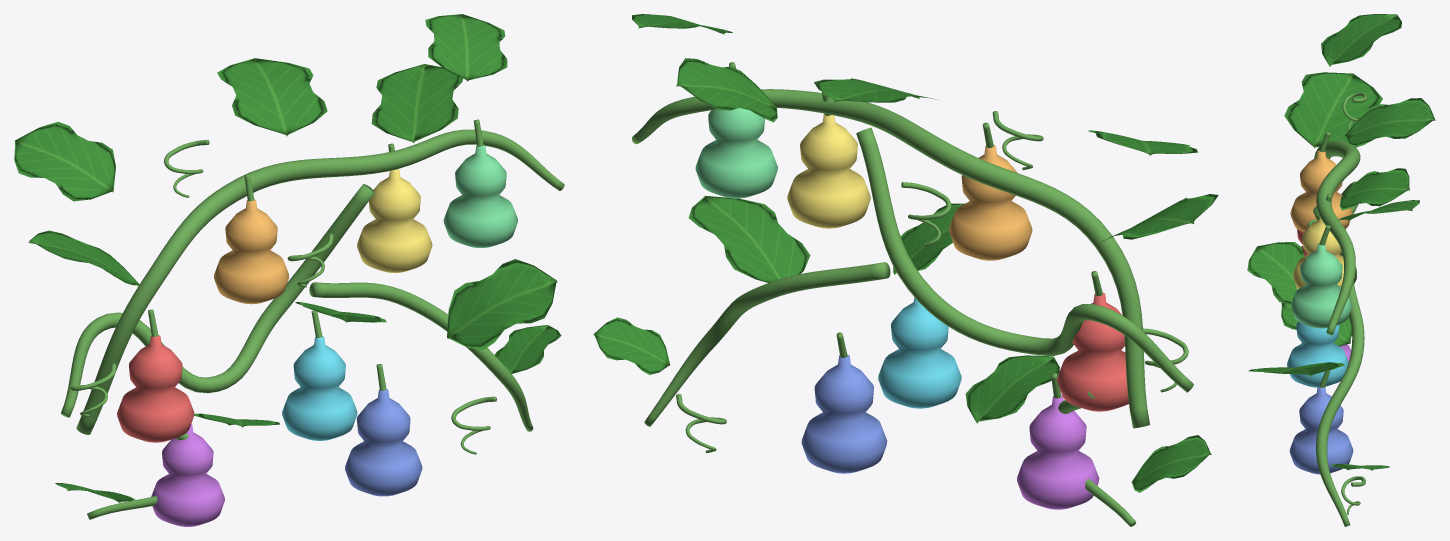
File: Prop_01_七色葫芦仙藤.glb
3 renders of one model, left to right at view 1: azimuth 30°, elevation 25°; view 2: azimuth 150°, elevation 25°; view 3: azimuth 270°, elevation 25°, orthographic. The views are drawn at different scales.
Parts seen in each view (by area): view 1: VineBranch_0, VineBranch_1, Leaf_6, Leaf_2, Gourd_6_Blue, Gourd_1_Red, Leaf_0, Gourd_5_Cyan, Gourd_2_Orange, Gourd_3_Yellow, Leaf_3, Gourd_4_Green (+7 smaller); view 2: VineBranch_0, VineBranch_1, Gourd_6_Blue, Gourd_3_Yellow, Leaf_6, Gourd_5_Cyan, Gourd_7_Purple, Gourd_4_Green, Gourd_2_Orange, Gourd_1_Red, VineBranch_2, Leaf_7 (+10 smaller); view 3: Leaf_1, Gourd_4_Green, VineBranch_0, Gourd_6_Blue, VineBranch_2, Leaf_2, Gourd_5_Cyan, Leaf_0, Leaf_5, Gourd_2_Orange, Leaf_4, Gourd_3_Yellow (+6 smaller).
Part boxes in pixels (x1=…): VineBranch_0: x1=76, y1=129, x2=564, y2=434; VineBranch_1: x1=61, y1=184, x2=374, y2=417; Leaf_6: x1=447, y1=259, x2=557, y2=349; Leaf_2: x1=217, y1=58, x2=327, y2=136; Gourd_6_Blue: x1=345, y1=389, x2=422, y2=496; Gourd_1_Red: x1=117, y1=335, x2=194, y2=442; Leaf_0: x1=14, y1=121, x2=115, y2=201; Gourd_5_Cyan: x1=282, y1=336, x2=357, y2=440; Gourd_2_Orange: x1=213, y1=199, x2=289, y2=304; Gourd_3_Yellow: x1=357, y1=169, x2=432, y2=272; Leaf_3: x1=371, y1=64, x2=462, y2=143; Gourd_4_Green: x1=443, y1=145, x2=517, y2=247; VineBranch_0: x1=632, y1=89, x2=1149, y2=428; VineBranch_1: x1=856, y1=127, x2=1193, y2=392; Gourd_6_Blue: x1=801, y1=354, x2=887, y2=473; Gourd_3_Yellow: x1=787, y1=113, x2=870, y2=228; Leaf_6: x1=688, y1=195, x2=810, y2=282; Gourd_5_Cyan: x1=878, y1=297, x2=961, y2=408; Gourd_7_Purple: x1=1017, y1=395, x2=1099, y2=509; Gourd_4_Green: x1=695, y1=108, x2=777, y2=198; Gourd_2_Orange: x1=949, y1=145, x2=1032, y2=260; Gourd_1_Red: x1=1057, y1=292, x2=1128, y2=411; VineBranch_2: x1=644, y1=262, x2=890, y2=426; Leaf_7: x1=965, y1=355, x2=1059, y2=423; Leaf_1: x1=1284, y1=72, x2=1382, y2=148; Gourd_4_Green: x1=1291, y1=243, x2=1351, y2=328; VineBranch_0: x1=1314, y1=140, x2=1360, y2=335; Gourd_6_Blue: x1=1289, y1=386, x2=1353, y2=474; VineBranch_2: x1=1316, y1=282, x2=1364, y2=526; Leaf_2: x1=1344, y1=98, x2=1435, y2=147; Gourd_5_Cyan: x1=1287, y1=322, x2=1348, y2=387; Leaf_0: x1=1321, y1=14, x2=1401, y2=66; Leaf_5: x1=1247, y1=242, x2=1304, y2=303; Gourd_2_Orange: x1=1290, y1=150, x2=1352, y2=232; Leaf_4: x1=1339, y1=168, x2=1409, y2=210; Gourd_3_Yellow: x1=1293, y1=216, x2=1354, y2=289.
Bounding box in the file's own units: 4.32 × 3.16 × 1.59.
Materials: 9 (1 with a texture image).
